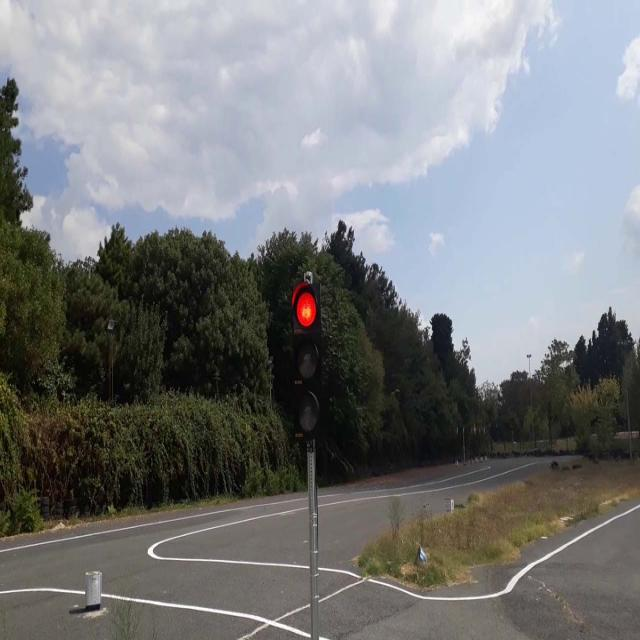kirmizi: (292, 281, 322, 443)
